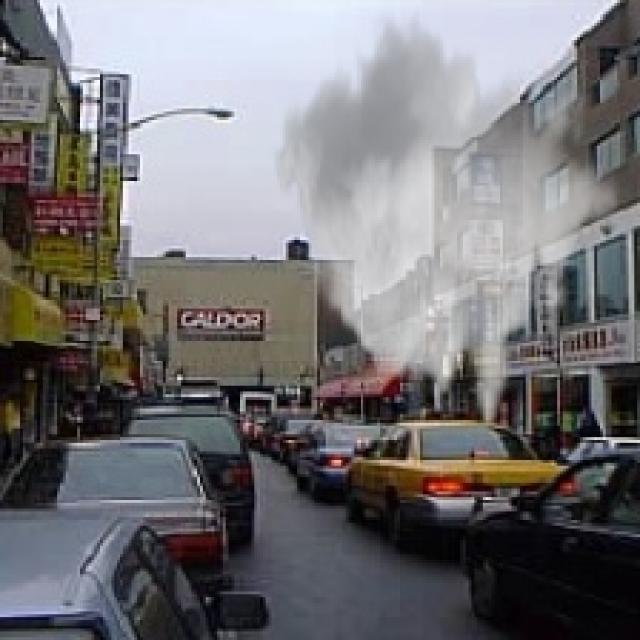smoke: (271, 6, 620, 426)
